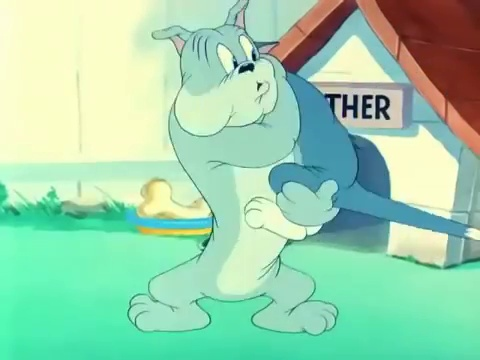spike: (147, 1, 291, 136)
